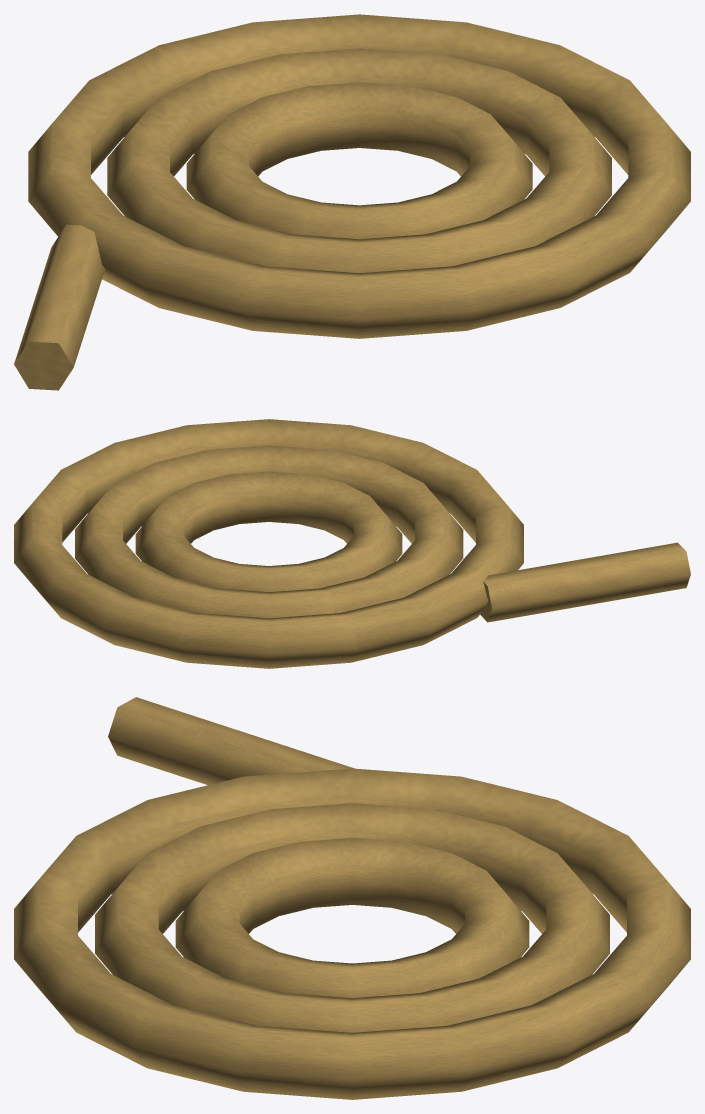
The model's file is rope-coil.fbx.
3 renders of one model, top to bottom at view 1: azimuth 30°, elevation 25°; view 2: azimuth 150°, elevation 25°; view 3: azimuth 270°, elevation 25°, orthographic. The views are drawn at different scales.
Visible parts, largest first — view 1: rope-coil__Geometry; view 2: rope-coil__Geometry; view 3: rope-coil__Geometry.
Boxes of the visible parts, <box> form: rope-coil__Geometry: <box>14,14,690,390</box>; rope-coil__Geometry: <box>14,419,690,668</box>; rope-coil__Geometry: <box>14,697,690,1099</box>.
Size of the model in its own units: 0.8487 by 0.0666 by 0.6598.
